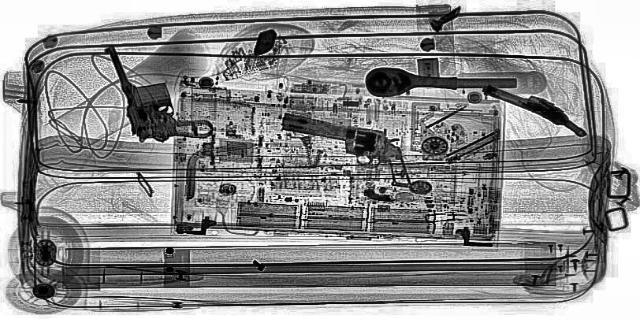Gun: (240, 110, 452, 188), (102, 41, 216, 143), (464, 81, 608, 137)
